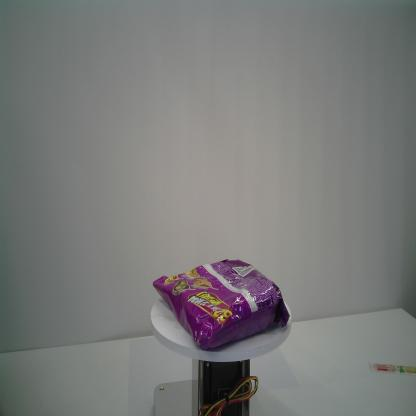Instant Noodles: (152, 258, 291, 350)
